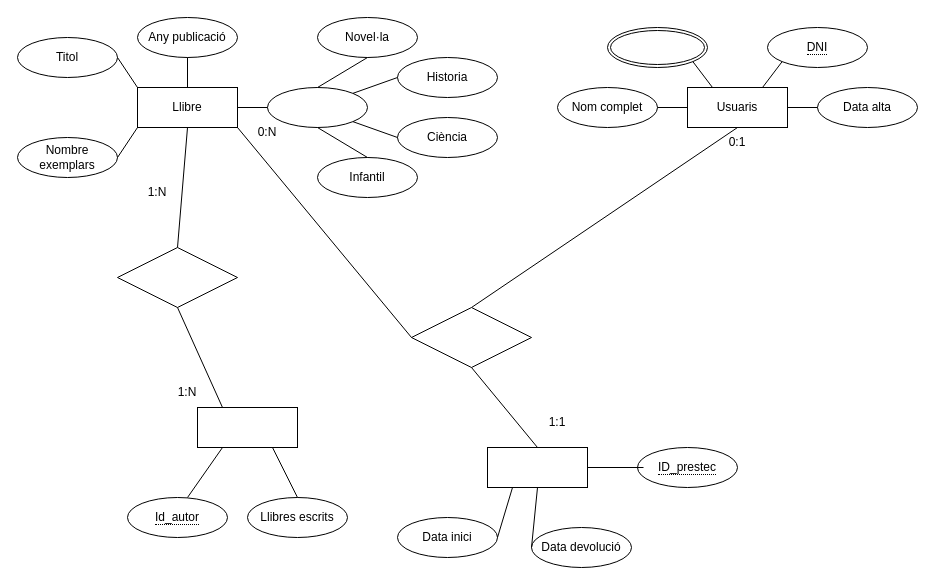
The diagram is 935 pixels wide and 585 high, and some of its shapes have lost their labels. Here are the shapes that lost their labels. From the top down, the centre of each, then its label:
At (x=657, y=47): "Num telefon".
At (x=317, y=107): "Classificació".
At (x=177, y=277): "Escrit".
At (x=471, y=337): "demanar".
At (x=247, y=427): "Autors".
At (x=537, y=467): "Prestec".
